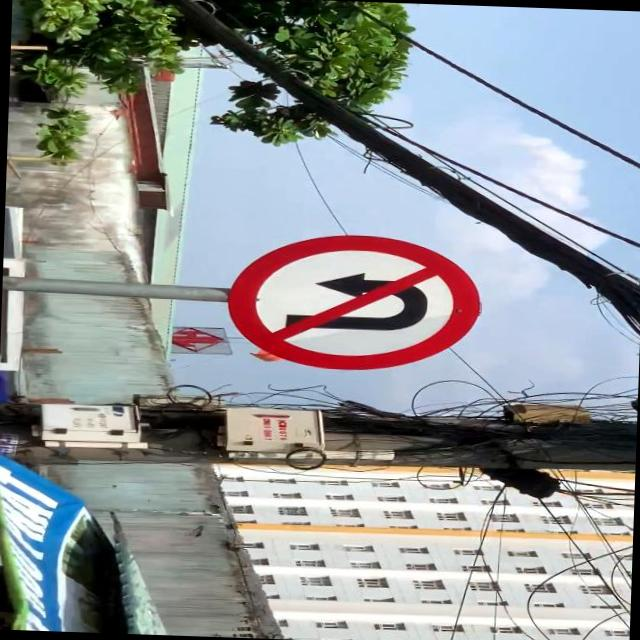P-124a1: (228, 229, 482, 373)
